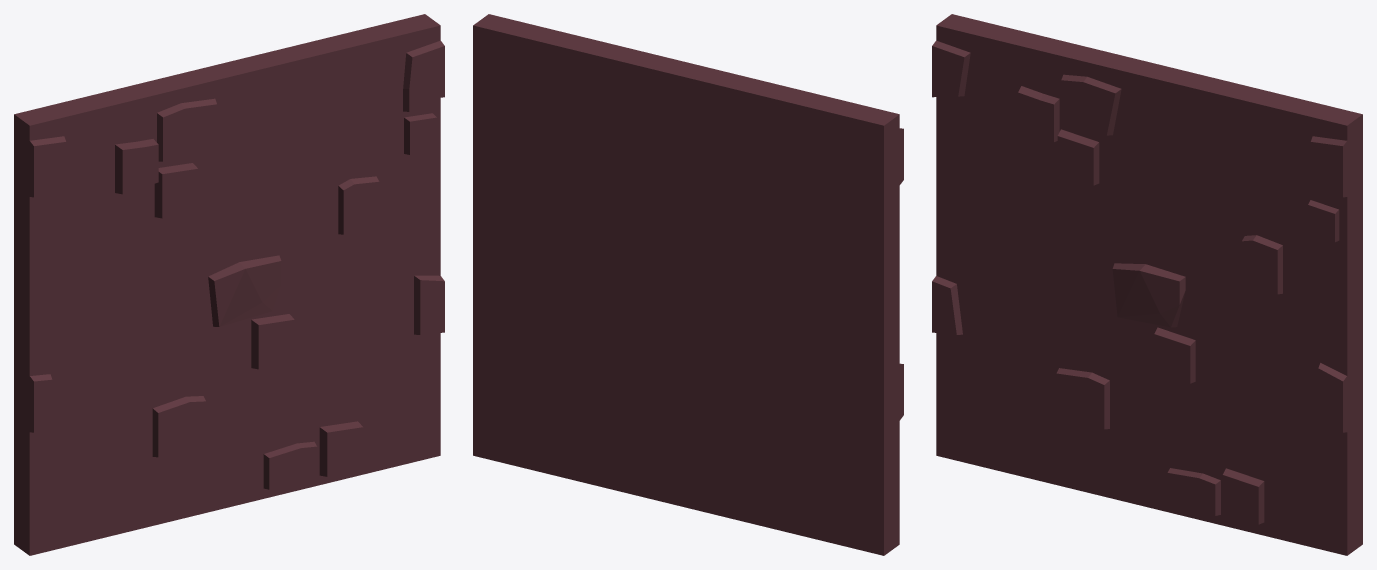
Rendered from SM_Stone_Wall_3x3_Moss_Empire.fbx.
The picture shows the model from 3 angles, left to right: view 1: azimuth 30°, elevation 25°; view 2: azimuth 150°, elevation 25°; view 3: azimuth 330°, elevation 25°; orthographic projection.
Visible parts, largest first — view 1: SM_Stone_Wall_3x3_Moss_Empire; view 2: SM_Stone_Wall_3x3_Moss_Empire; view 3: SM_Stone_Wall_3x3_Moss_Empire.
Boxes of the visible parts, x1,y1,x2,y2 form: SM_Stone_Wall_3x3_Moss_Empire: (14, 14, 444, 555); SM_Stone_Wall_3x3_Moss_Empire: (473, 14, 903, 555); SM_Stone_Wall_3x3_Moss_Empire: (932, 14, 1362, 555).
Size of the model in its own units: 3 by 3 by 0.2753.
